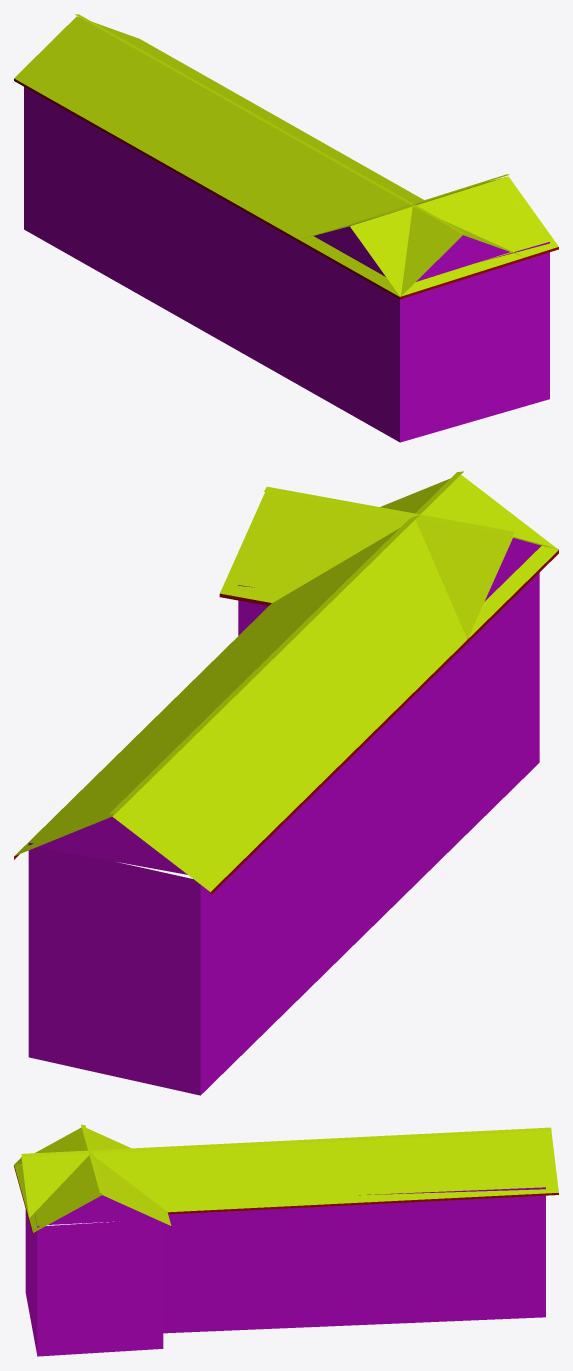
Rendered from bgj_206.glb.
The picture shows the model from 3 angles, top to bottom: view 1: azimuth 30°, elevation 25°; view 2: azimuth 150°, elevation 25°; view 3: azimuth 270°, elevation 25°; orthographic projection. The views are drawn at different scales.
Visible parts, largest first — view 1: bgj_206; view 2: bgj_206; view 3: bgj_206.
Boxes of the visible parts, left/top/right/bottom form: bgj_206: left=14, top=14, right=558, bottom=442; bgj_206: left=14, top=471, right=558, bottom=1095; bgj_206: left=14, top=1124, right=558, bottom=1356.
Size of the model in its own units: 11.3 by 9.03 by 27.39.
